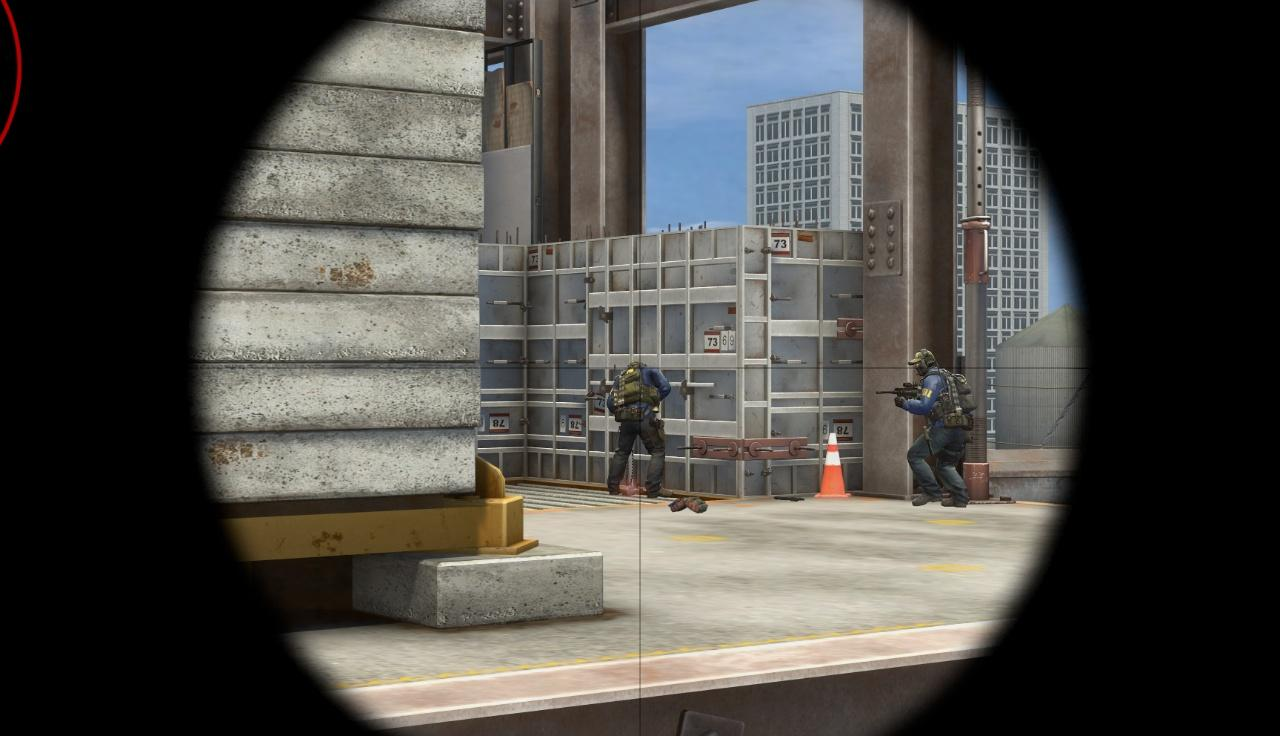ct: (895, 348, 969, 509), (604, 359, 668, 499)
cthead: (909, 347, 938, 379)
